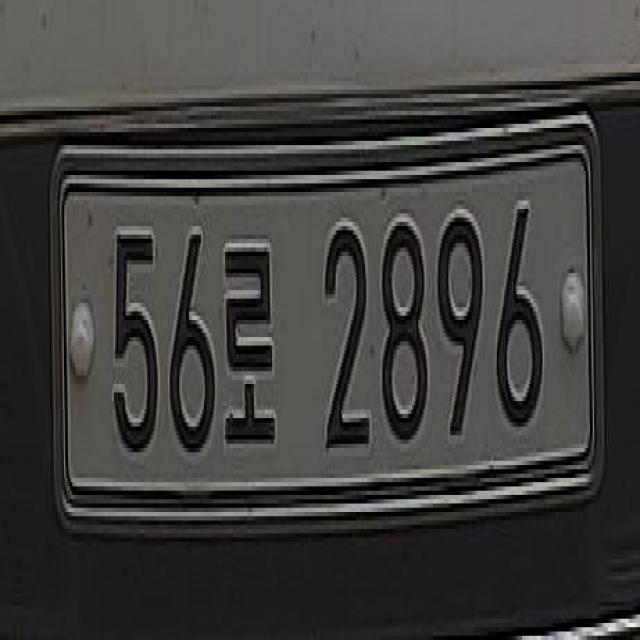illegal_plate: (47, 121, 609, 535)
